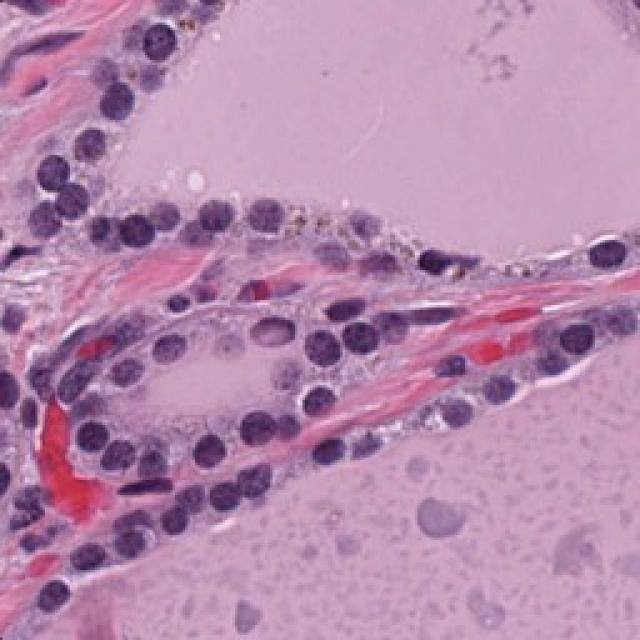normal: (166, 404, 246, 491), (124, 2, 205, 74), (232, 185, 314, 252), (228, 397, 293, 474), (278, 423, 364, 481), (541, 301, 610, 371), (279, 309, 351, 371), (582, 212, 640, 288), (187, 191, 247, 258), (145, 314, 207, 378), (62, 397, 124, 461), (41, 174, 101, 238), (296, 373, 352, 441), (109, 197, 168, 260), (427, 381, 489, 439), (60, 531, 114, 596), (100, 509, 156, 566), (151, 489, 195, 555), (337, 311, 381, 370), (33, 151, 88, 197), (95, 74, 134, 138)
